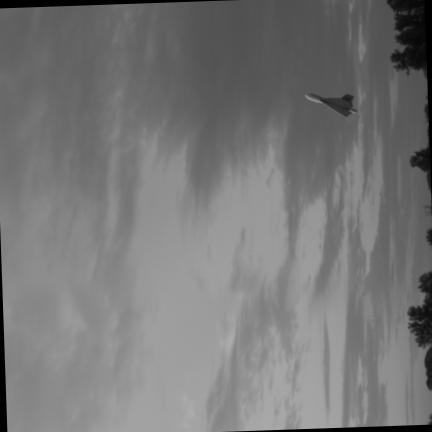Shahed: (306, 93, 359, 125)
